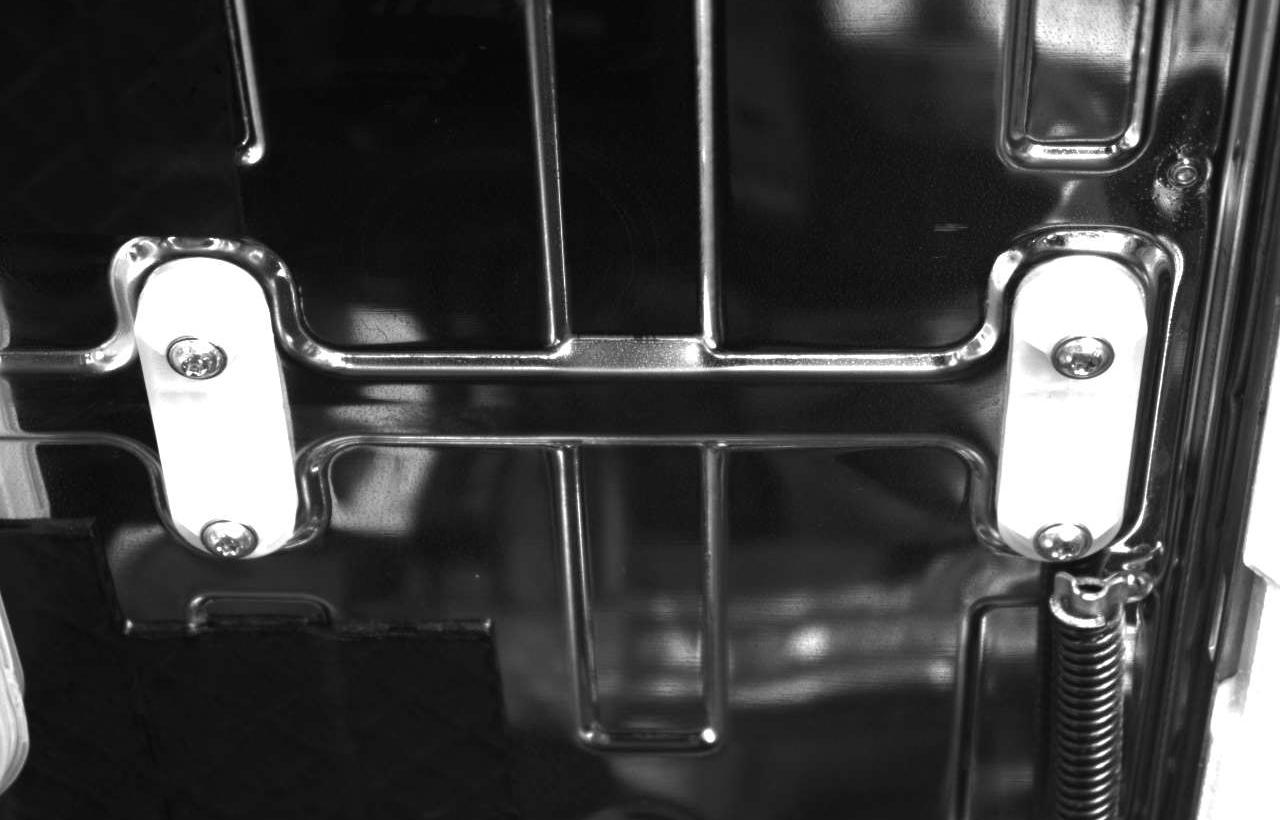vida-ok: (154, 321, 241, 398), (1034, 316, 1122, 388), (187, 506, 264, 570), (1020, 510, 1095, 568)
